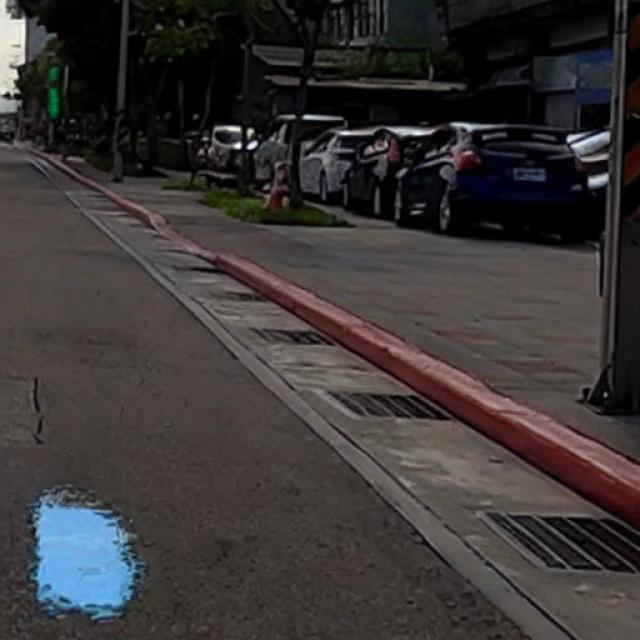puddle: (32, 485, 142, 621)
